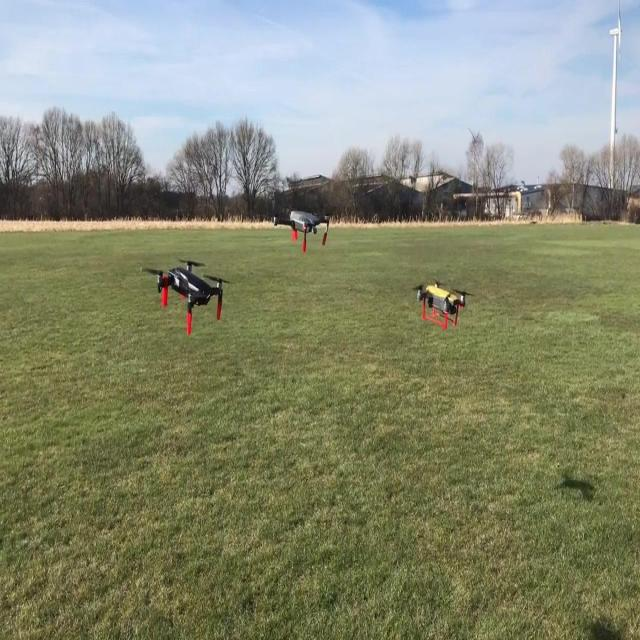drone: (142, 258, 232, 337), (274, 205, 338, 255), (412, 280, 472, 332)
